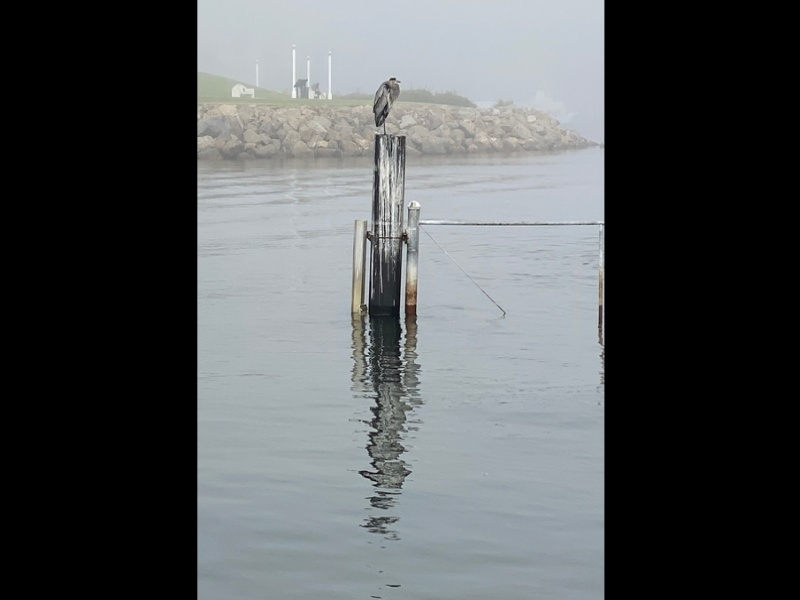heron: (371, 76, 402, 131)
